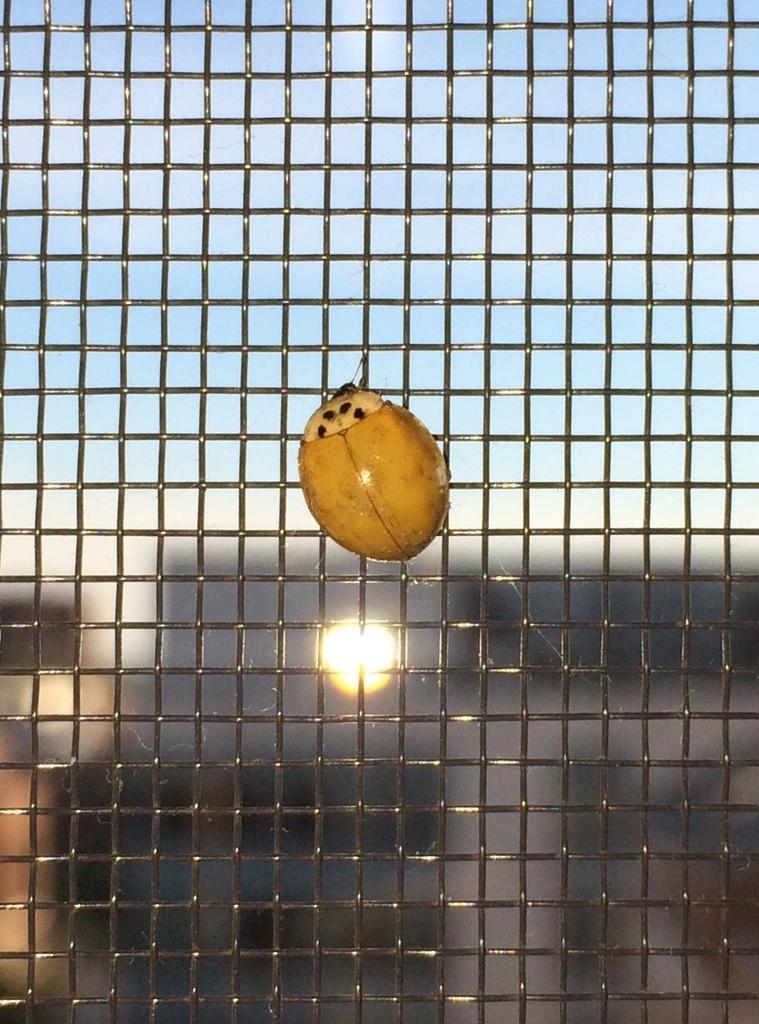ladybug: (299, 351, 456, 564)
